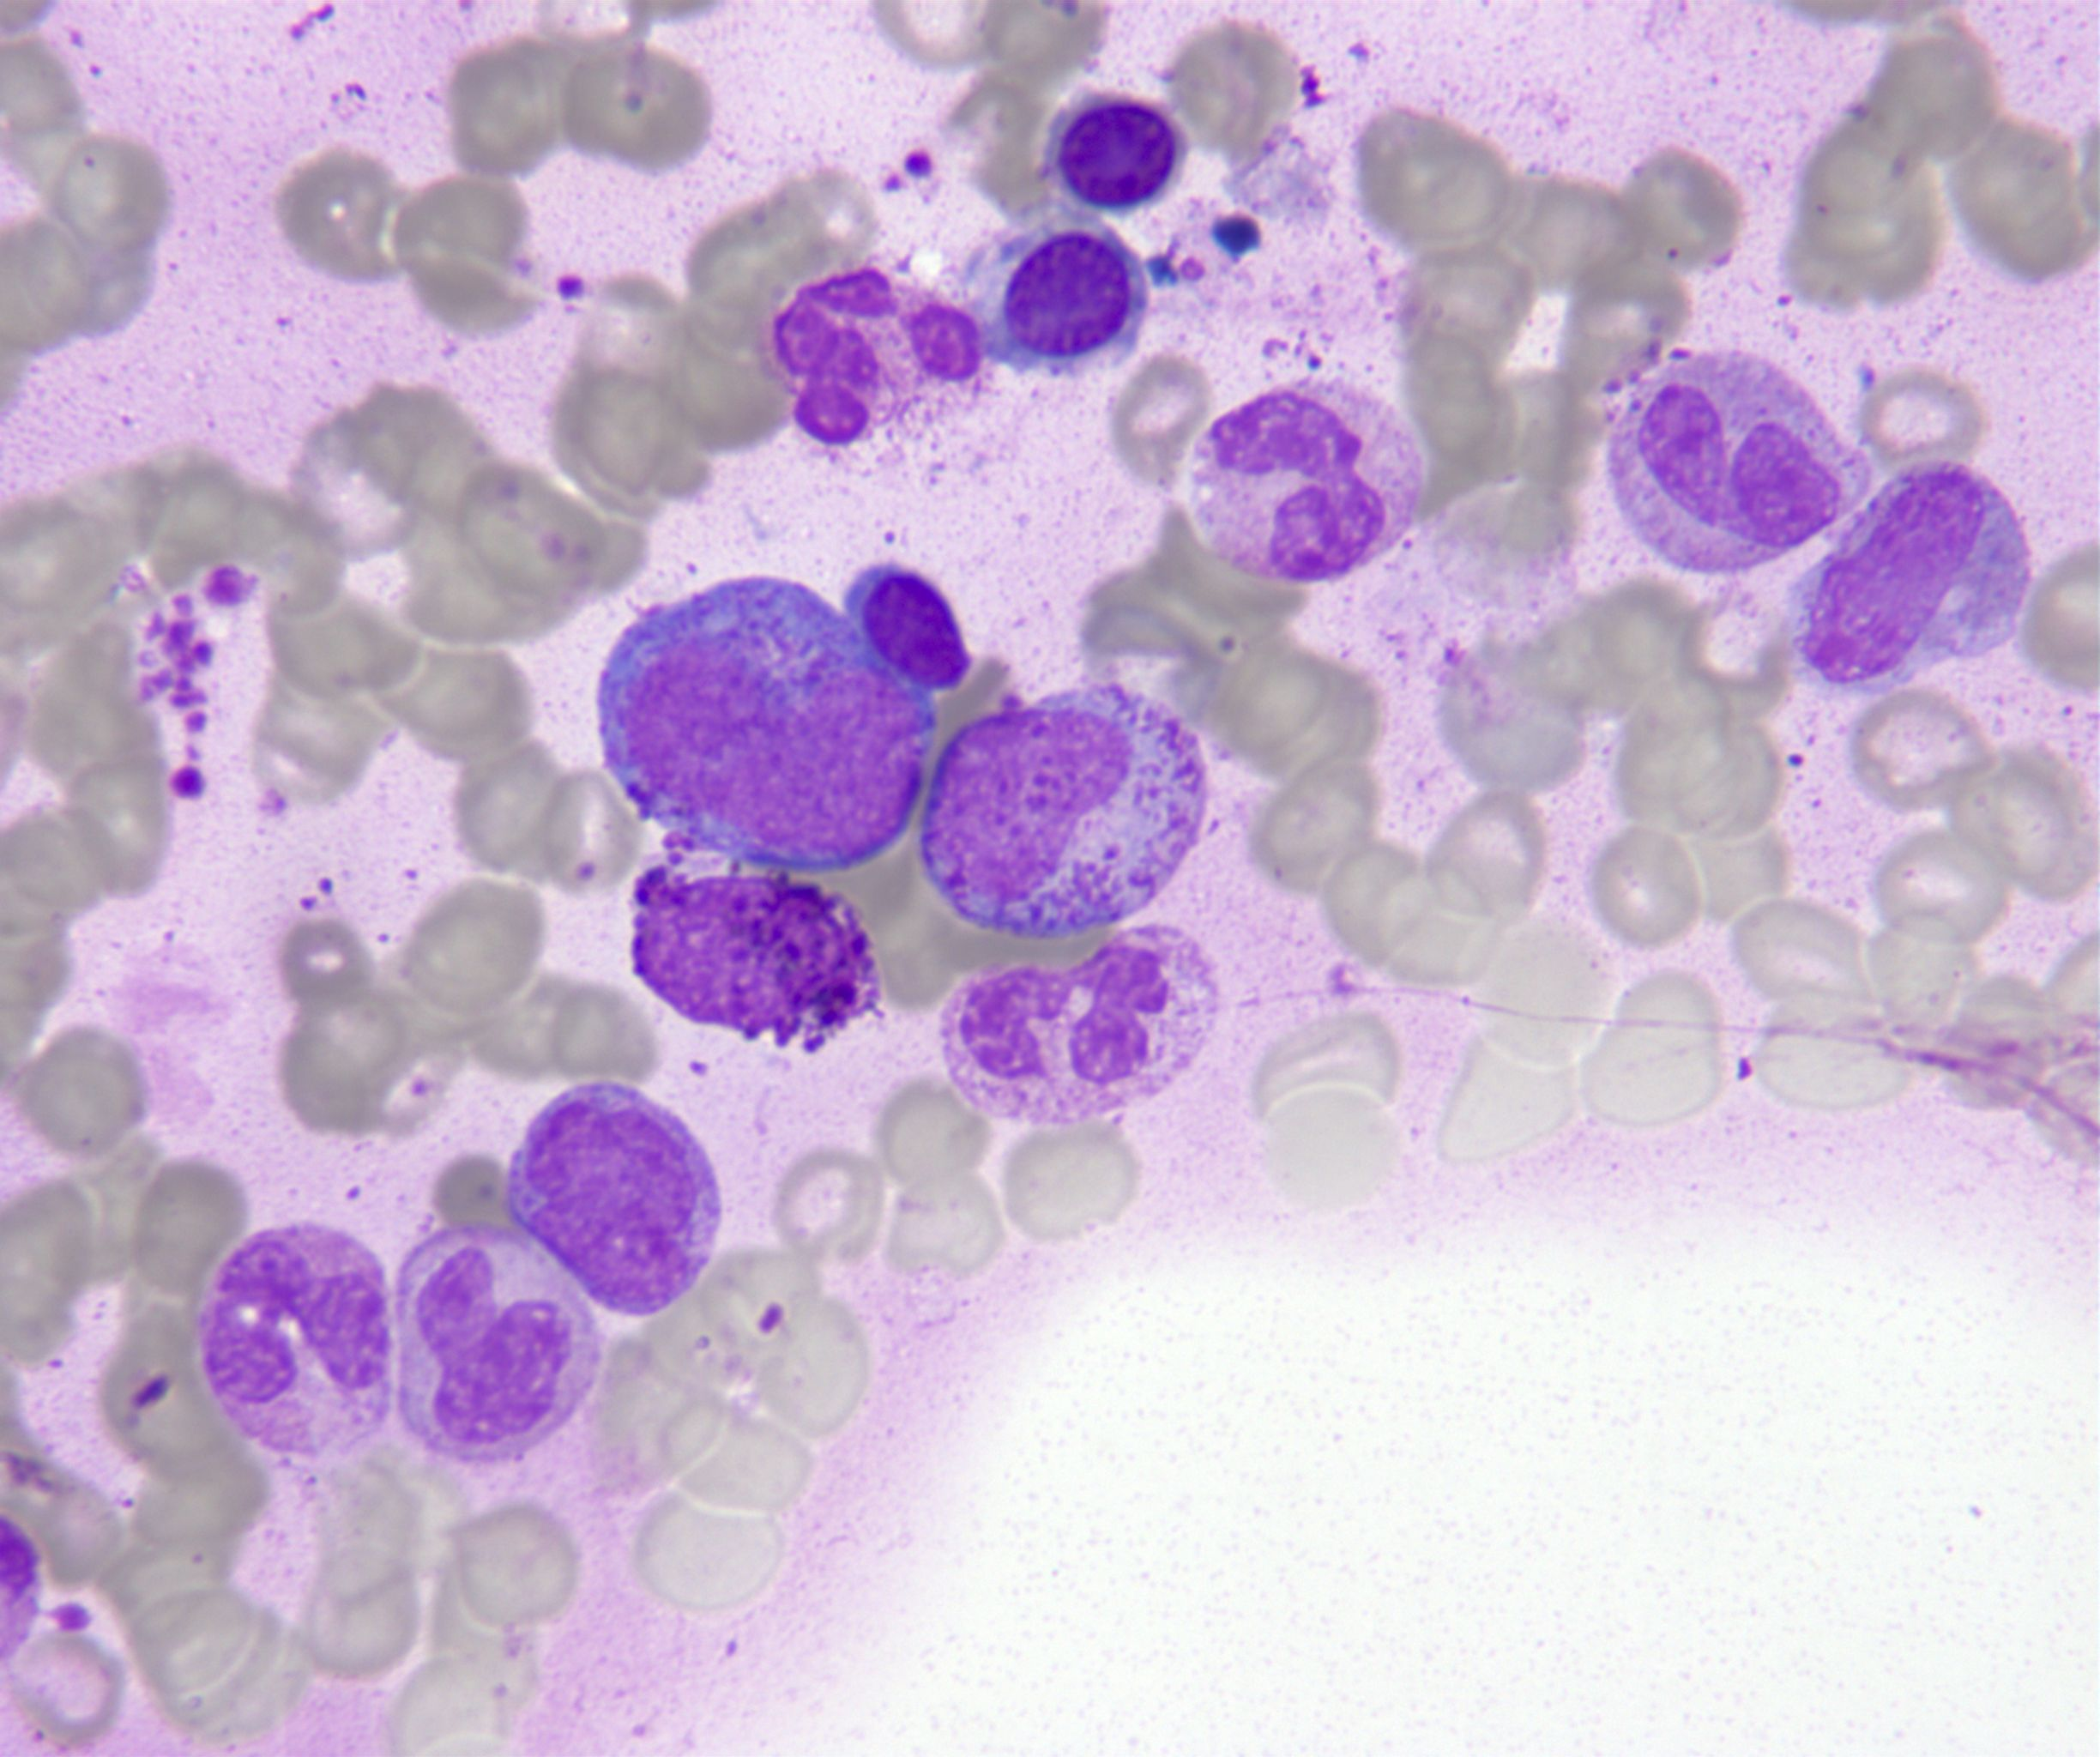2: (597, 578, 935, 872)
23: (966, 201, 1149, 375), (1040, 89, 1188, 218)
3: (919, 682, 1207, 937), (1777, 461, 2030, 691)
32: (846, 562, 970, 689)
4: (396, 1228, 598, 1460), (199, 1227, 391, 1459)
42: (508, 1082, 720, 1316)
5: (1608, 354, 1872, 576), (940, 925, 1214, 1125), (1190, 379, 1425, 585)
B4: (630, 867, 883, 1054)
x: (760, 267, 989, 457)
